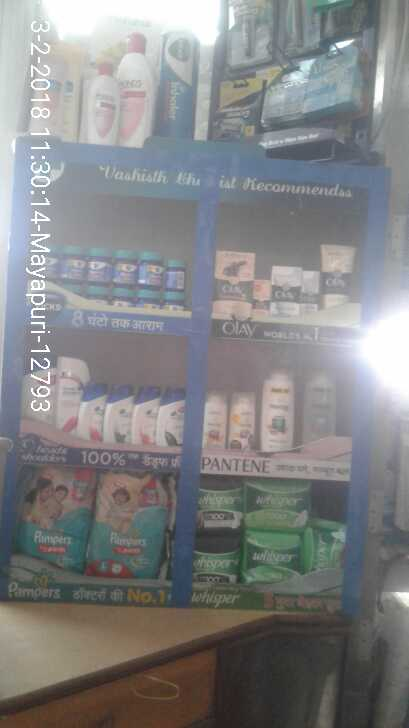vicks: (36, 244, 193, 315)
